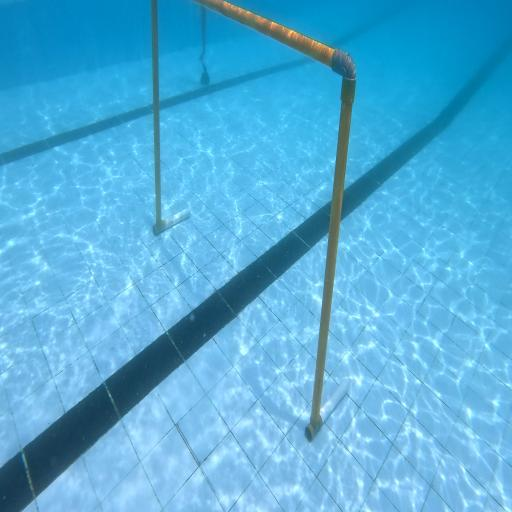gate: (152, 0, 357, 442)
